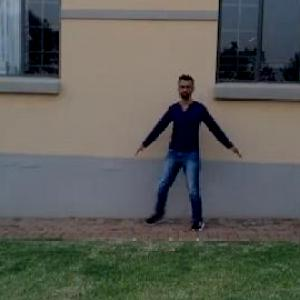land: (136, 80, 241, 241)
